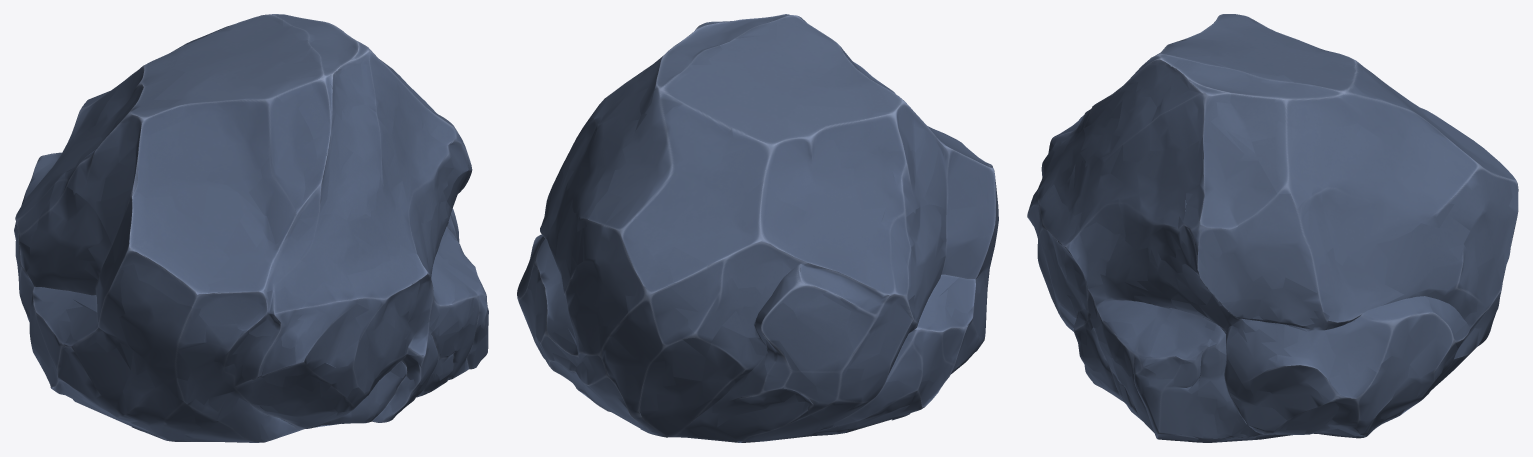
The model's file is ObsidianShard.fbx.
3 views of the same model, side by side, from view 1: azimuth 30°, elevation 25°; view 2: azimuth 150°, elevation 25°; view 3: azimuth 270°, elevation 25° (orthographic). The views are drawn at different scales.
Visible parts, largest first — view 1: output_unwrapped; view 2: output_unwrapped; view 3: output_unwrapped.
Part boxes in pixels (x1=…): output_unwrapped: x1=14, y1=14, x2=488, y2=442; output_unwrapped: x1=517, y1=14, x2=998, y2=442; output_unwrapped: x1=1027, y1=14, x2=1518, y2=442.
Size of the model in its own units: 180 by 134 by 190.
1 material, 1 textured.
